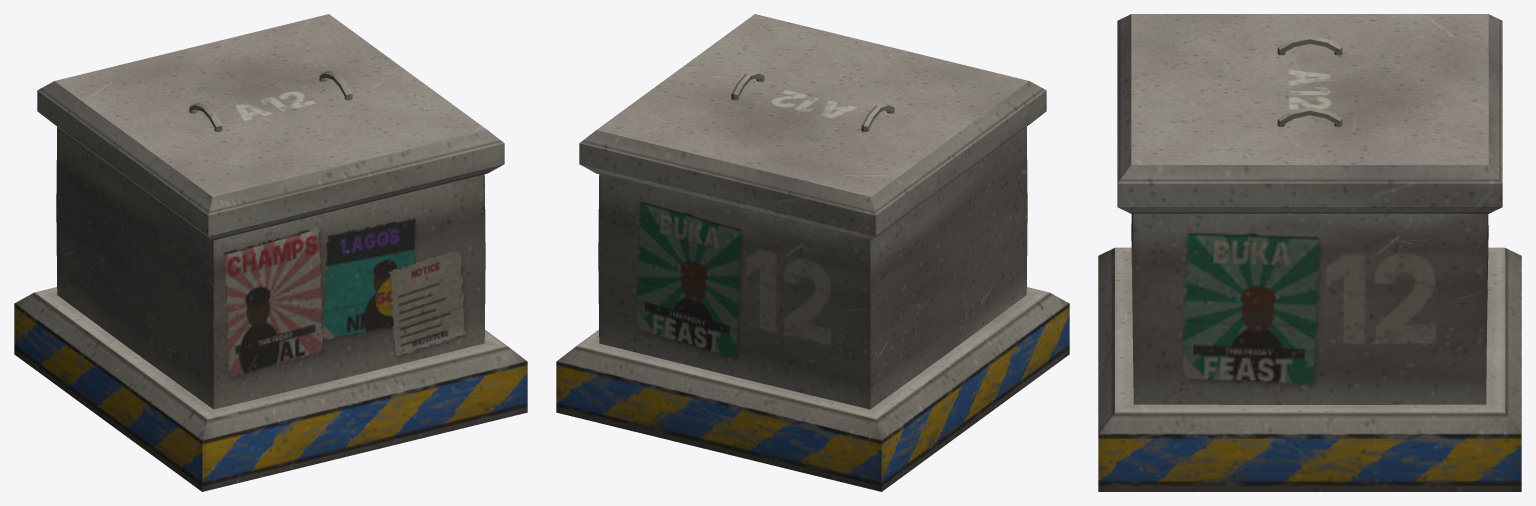
File: prop_pillar_a.glb
3 renders of one model, left to right at view 1: azimuth 30°, elevation 25°; view 2: azimuth 150°, elevation 25°; view 3: azimuth 270°, elevation 25°, orthographic. The views are drawn at different scales.
Parts seen in each view (by area): view 1: prop_pillar_a_body; view 2: prop_pillar_a_body; view 3: prop_pillar_a_body.
Boxes of the visible parts, box(x1,y1,x2,y2) form: prop_pillar_a_body: box(14, 14, 527, 491); prop_pillar_a_body: box(556, 14, 1069, 491); prop_pillar_a_body: box(1098, 14, 1521, 491).
Bounding box in the file's own units: 0.9 × 0.778 × 0.9.
1 material, 1 textured.
